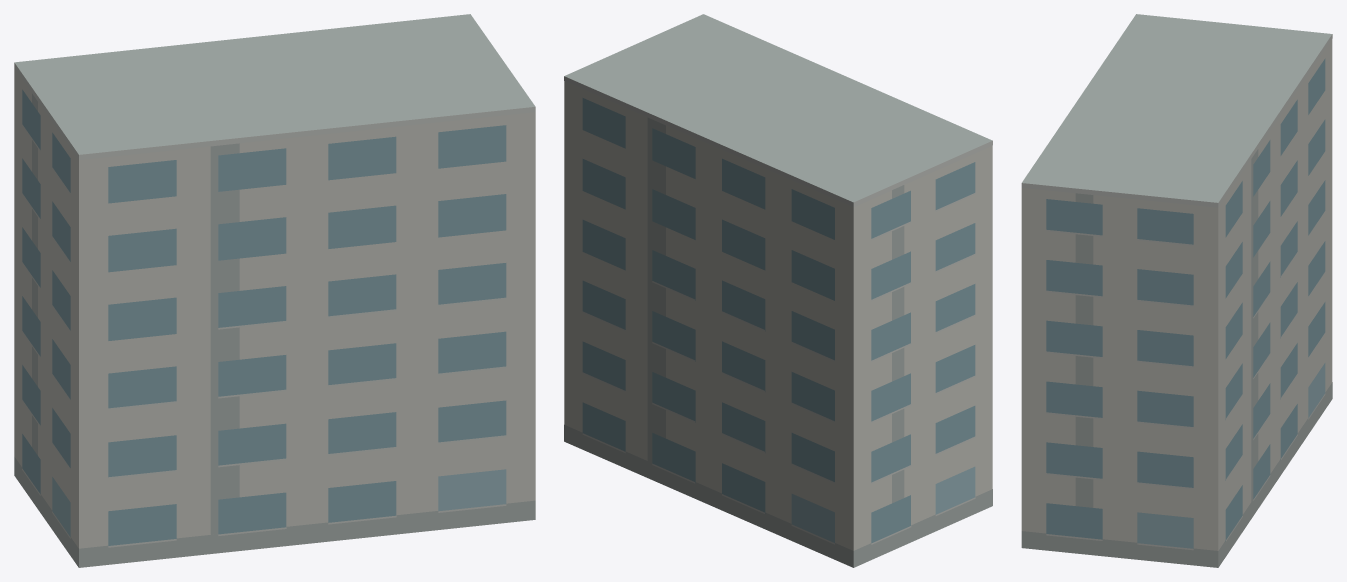
The model's file is survey-upis-32755832.glb.
3 renders of one model, left to right at view 1: azimuth 30°, elevation 25°; view 2: azimuth 150°, elevation 25°; view 3: azimuth 270°, elevation 25°, orthographic. The views are drawn at different scales.
Visible parts, largest first — view 1: survey-upis-32755832.tmp; view 2: survey-upis-32755832.tmp; view 3: survey-upis-32755832.tmp.
Boxes of the visible parts, x1=… form: survey-upis-32755832.tmp: x1=14, y1=14, x2=535, y2=567; survey-upis-32755832.tmp: x1=564, y1=14, x2=992, y2=567; survey-upis-32755832.tmp: x1=1021, y1=14, x2=1332, y2=567.
Bounding box in the file's own units: 20.54 × 18.5 × 14.29.
